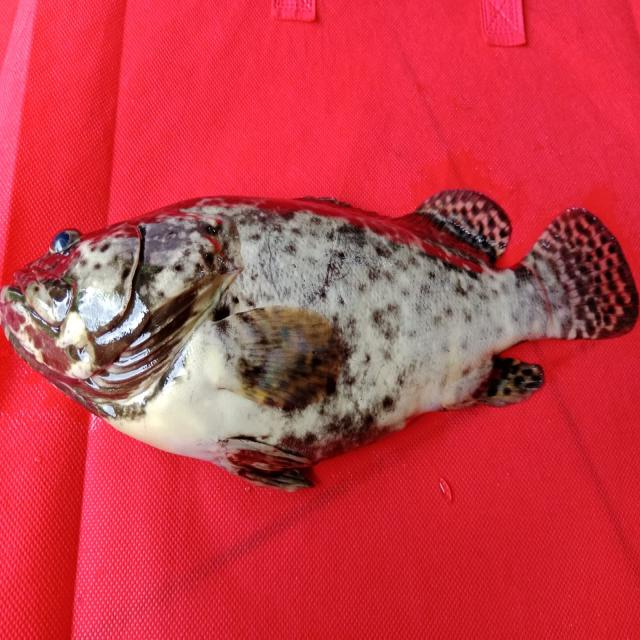ikan: (1, 186, 637, 493)
